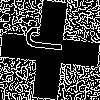J: (25, 25, 73, 55)
